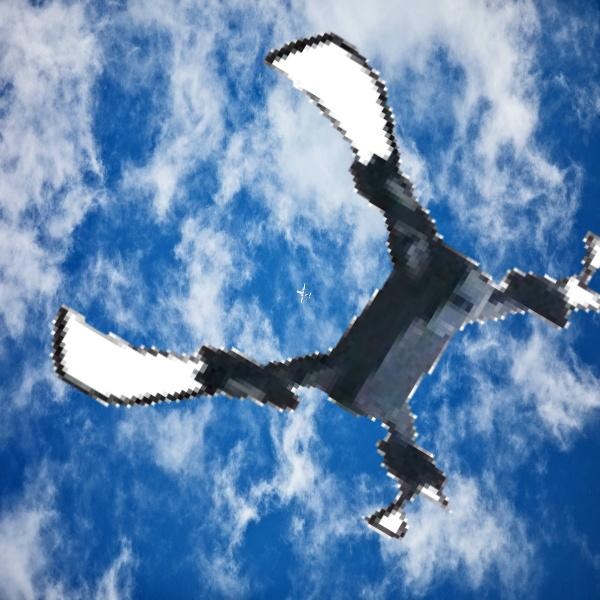drone: (95, 60, 590, 555)
